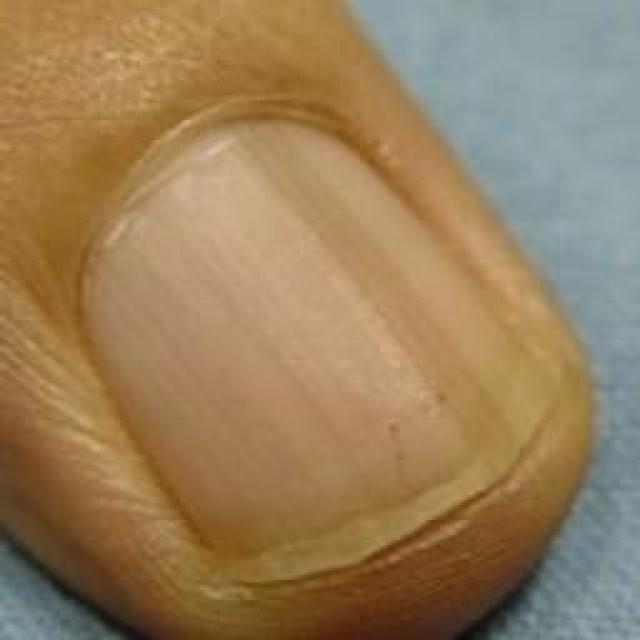Nail: (81, 123, 554, 587)
